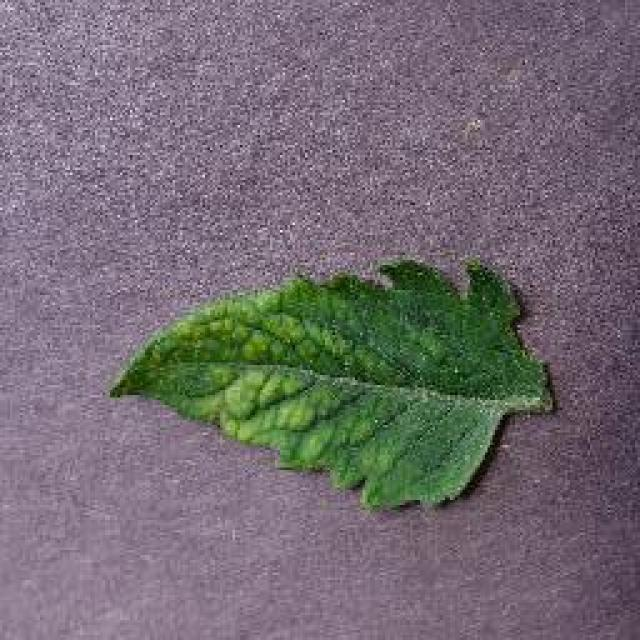Tomato spider mites leaf: (110, 255, 558, 510)
